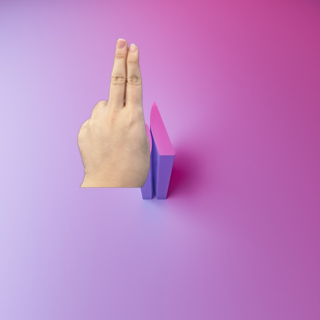DHAVE: (71, 36, 155, 185)
